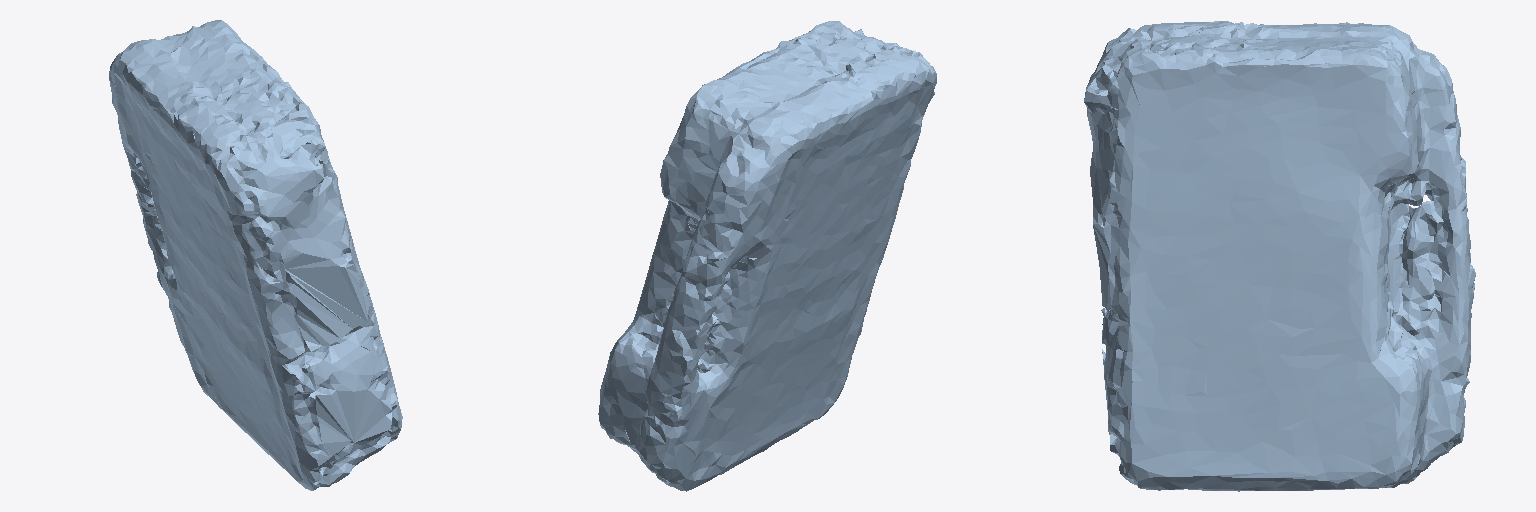
The robot description file, URDF, robot "toolbox.urdf":
<?xml version="1.0" ?>
<robot name="toolbox.urdf">
  <dynamics damping="0.5" friction="0.9"/>
  <link name="baseLink">
    <contact>
      <lateral_friction value="0.9"/>
      <rolling_friction value="0.5"/>
      <stiffness value="30000"/>
      <damping value="1000"/>
    </contact>
    <visual>
      <origin rpy="0 0 0" xyz="0 0 0"/>
      <geometry>
        <mesh filename="objects/toolbox/toolbox.obj" scale="1.0 1.0 1.0"/>
      </geometry>
       <material name="mat">
        <color rgba="0.7 0.8 0.9 1"/>
      </material>
    </visual>
    <collision>
      <origin rpy="0 0 0" xyz="0 0 0"/>
      <geometry>
         <mesh filename="objects/toolbox/toolbox.obj" scale="1.0 1.0 1.0"/>
      </geometry>
    </collision>
  </link>
</robot>

--- Render facts (derived) ---
The picture shows the robot from 3 angles, left to right: view 1: azimuth 30°, elevation 25°; view 2: azimuth 150°, elevation 25°; view 3: azimuth 270°, elevation 25°; orthographic projection.
Model toolbox.urdf with 1 links and 0 joints (none), rooted at baseLink, posed every joint at zero.
Visible links, largest first — view 1: baseLink; view 2: baseLink; view 3: baseLink.
Boxes of the visible links, bbox=[...] form: baseLink: bbox=[109, 20, 402, 490]; baseLink: bbox=[598, 21, 936, 491]; baseLink: bbox=[1084, 21, 1475, 491].
Size in the robot's own frame: 0.1713 by 0.2552 by 0.311 metres.
Meshes: 1 distinct files referenced, 1 mesh visuals loaded (1 OBJ).
